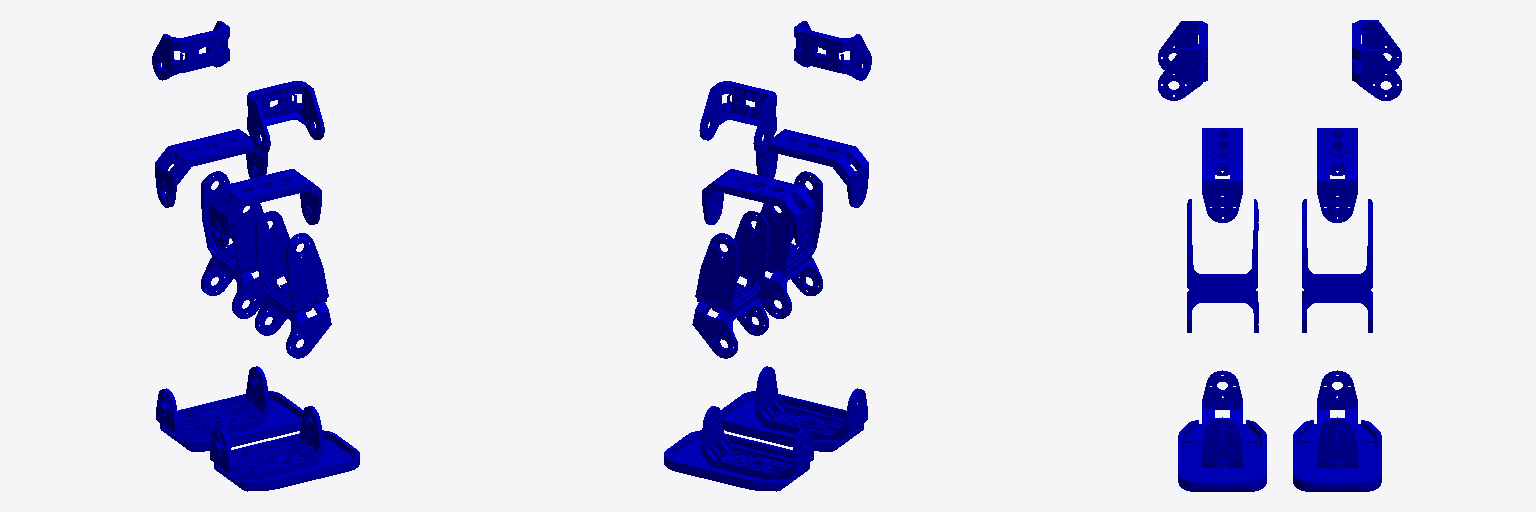
The robot description file, URDF, robot "loadscanner":
<?xml version="1.0"?>
<robot name="loadscanner">
  <material name="blue">
    <color rgba="0 0 0.8 1"/>
  </material>
  <material name="black">
    <color rgba="0 0 0 1"/>
  </material>
  <material name="white">
    <color rgba="1 1 1 1"/>
  </material>
  <material name="orange">
    <color rgba="1 0.4235 0.03921 1"/>
  </material>

  <link name="base_link">
    <origin xyz="0.0 0.0 0.0" rpy="0.0 0.0 0.0" />
  </link>

  <link name="base_footprint">
    <visual>
      <origin xyz="0.0 0.0 0.0" rpy="0.0 0.0 0.0" />
      <geometry>
        <!-- <box size="0.1 0.05 0.15" /> -->
        <mesh filename="package://bioloid_c_description/meshes/base.dae"/>
      </geometry>
      <material name="blue"/>
    </visual>
  </link>

  <joint name="base_link_to_footprint_joint" type="fixed">
    <parent link="base_link"/>
    <child link="base_footprint"/>
    <origin xyz="0.0 0.0 0.0" rpy="0.0 0.0 0.0"/>
  </joint>

  <!-- LEFT ARM -->

  <link name="left_shoulder_link">
    <visual>
      <origin xyz="0.0 0.0 0.0" rpy="0.0 0.0 0.0" />
      <geometry>
        <mesh filename="package://bioloid_c_description/meshes/shoulder.dae"/>
      </geometry>
      <material name="blue"/>
    </visual>
  </link>

  <joint name="left_shoulder_joint" type="revolute">
    <axis xyz="0 1 0"/>
    <limit effort="1000.0" lower="-3.14" upper="3.14" velocity="0.5"/>
    <parent link="base_footprint"/>
    <child link="left_shoulder_link"/>
    <origin xyz="0.0 0.049 0.0" rpy="0.0 0.0 0.0"/>
  </joint>

  <link name="left_arm_link">
    <visual>
      <origin xyz="0.0 0.0 0.0" rpy="0.0 0.0 0.0" />
      <geometry>
        <mesh filename="package://bioloid_c_description/meshes/arm.dae"/>
      </geometry>
      <material name="blue"/>
    </visual>
  </link>

  <joint name="left_arm_joint" type="revolute">
    <axis xyz="1 0 0"/>
    <limit effort="1000.0" lower="-3.14" upper="3.14" velocity="0.5"/>
    <parent link="left_shoulder_link"/>
    <child link="left_arm_link"/>
    <origin xyz="0.0 0.023 -0.0145" rpy="0.0 0.0 0.0"/>
  </joint>

  <link name="left_forearm_link">
    <visual>
      <origin xyz="0.0 0.0 0.0" rpy="0.0 0.0 0.0" />
      <geometry>
        <mesh filename="package://bioloid_c_description/meshes/left_forearm.dae"/>
      </geometry>
      <material name="blue"/>
    </visual>
  </link>

  <joint name="left_forearm_joint" type="revolute">
    <axis xyz="1 0 0"/>
    <limit effort="1000.0" lower="-3.14" upper="3.14" velocity="0.5"/>
    <parent link="left_arm_link"/>
    <child link="left_forearm_link"/>
    <origin xyz="0.0 0.0 -0.0675" rpy="0.0 0.0 0.0"/>
  </joint>

  <!-- RIGHT ARM -->
  <!-- Shoulder: visual Rotate 180 deg -->
  <link name="right_shoulder_link">
    <visual>
      <origin xyz="0.0 0.0 0.0" rpy="0.0 0.0 3.14" />
      <geometry>
        <mesh filename="package://bioloid_c_description/meshes/shoulder.dae"/>
      </geometry>
      <material name="blue"/>
    </visual>
  </link>

  <joint name="right_shoulder_joint" type="revolute">
    <axis xyz="0 1 0"/>
    <limit effort="1000.0" lower="-3.14" upper="3.14" velocity="0.5"/>
    <parent link="base_footprint"/>
    <child link="right_shoulder_link"/>
    <origin xyz="0.0 -0.049 0.0" rpy="0.0 0.0 0.0"/>
  </joint>

  <link name="right_arm_link">
    <visual>
      <origin xyz="0.0 0.0 0.0" rpy="0.0 0.0 0.0" />
      <geometry>
        <mesh filename="package://bioloid_c_description/meshes/arm.dae"/>
      </geometry>
      <material name="blue"/>
    </visual>
  </link>

  <joint name="right_arm_joint" type="revolute">
    <axis xyz="1 0 0"/>
    <limit effort="1000.0" lower="-3.14" upper="3.14" velocity="0.5"/>
    <parent link="right_shoulder_link"/>
    <child link="right_arm_link"/>
    <origin xyz="0.0 -0.023 -0.0145" rpy="0.0 0.0 0.0"/>
  </joint>

  <link name="right_forearm_link">
    <visual>
      <origin xyz="0.0 0.0 0.0" rpy="0.0 0.0 0.0" />
      <geometry>
        <mesh filename="package://bioloid_c_description/meshes/right_forearm.dae"/>
      </geometry>
      <material name="blue"/>
    </visual>
  </link>

  <joint name="right_forearm_joint" type="revolute">
    <axis xyz="1 0 0"/>
    <limit effort="1000.0" lower="-3.14" upper="3.14" velocity="0.5"/>
    <parent link="right_arm_link"/>
    <child link="right_forearm_link"/>
    <origin xyz="0.0 -0.0 -0.0675" rpy="0.0 0.0 0.0"/>
  </joint>


  <!-- LEG -->
  <!-- LEFT LEG -->

  <link name="left_hip_link">
    <visual>
      <origin xyz="0.0 0.0 0.0" rpy="0.0 0.0 0.0" />
      <geometry>
        <mesh filename="package://bioloid_c_description/meshes/hip.dae"/>
      </geometry>
      <material name="blue"/>
    </visual>
  </link>

  <joint name="left_hip_joint" type="revolute">
    <axis xyz="1 0 0"/>
    <limit effort="1000.0" lower="-3.14" upper="3.14" velocity="0.5"/>
    <parent link="base_footprint"/>
    <child link="left_hip_link"/>
    <origin xyz="0.0 0.039 -0.07" rpy="0.0 0.0 0.0"/>
  </joint>

  <link name="left_thigh_link">
    <visual>
      <origin xyz="0.0 0.0 0.0" rpy="0.0 0.0 0.0" />
      <geometry>
        <mesh filename="package://bioloid_c_description/meshes/thigh.dae"/>
      </geometry>
      <material name="blue"/>
    </visual>
  </link>

  <joint name="left_thigh_joint" type="revolute">
    <axis xyz="0 1 0"/>
    <limit effort="1000.0" lower="-3.14" upper="3.14" velocity="0.5"/>
    <parent link="left_hip_link"/>
    <child link="left_thigh_link"/>
    <origin xyz="0.016 0.0 -0.045" rpy="0.0 0.0 0.0"/>
  </joint>

  <link name="left_knee_link">
    <visual>
      <origin xyz="0.0 0.0 0.0" rpy="0.0 0.0 0.0" />
      <geometry>
        <mesh filename="package://bioloid_c_description/meshes/left-knee.dae"/>
      </geometry>
      <material name="blue"/>
    </visual>
  </link>

  <joint name="left_knee_joint" type="revolute">
    <axis xyz="0 1 0"/>
    <limit effort="1000.0" lower="-3.14" upper="3.14" velocity="0.5"/>
    <parent link="left_thigh_link"/>
    <child link="left_knee_link"/>
    <origin xyz="0.0 0.0 -0.076" rpy="0.0 0.0 0.0"/>
  </joint>

  <link name="left_ankle_link">
    <visual>
      <origin xyz="0.0 0.0 0.0" rpy="0.0 0.0 0.0" />
      <geometry>
        <mesh filename="package://bioloid_c_description/meshes/ankle.dae"/>
      </geometry>
      <material name="blue"/>
    </visual>
  </link>

  <joint name="left_ankle_joint" type="revolute">
    <axis xyz="0 1 0"/>
    <limit effort="1000.0" lower="-3.14" upper="3.14" velocity="0.5"/>
    <parent link="left_knee_link"/>
    <child link="left_ankle_link"/>
    <origin xyz="0.0 0.00 -0.0765" rpy="0.0 0.0 0.0"/>
  </joint>

  <link name="left_foot_link">
    <visual>
      <origin xyz="0.0 0.0 0.0" rpy="0.0 0.0 0.0" />
      <geometry>
        <mesh filename="package://bioloid_c_description/meshes/foot.dae"/>
      </geometry>
      <material name="blue"/>
    </visual>
  </link>

  <joint name="left_foot_joint" type="revolute">
    <axis xyz="1 0 0"/>
    <limit effort="1000.0" lower="-3.14" upper="3.14" velocity="0.5"/>
    <parent link="left_ankle_link"/>
    <child link="left_foot_link"/>
    <origin xyz="-0.015 0.00 0.0" rpy="0.0 0.0 0.0"/>
  </joint>


  <!-- RIGH LEG -->

  <link name="right_hip_link">
    <visual>
      <origin xyz="0.0 0.0 0.0" rpy="0.0 0.0 0.0" />
      <geometry>
        <mesh filename="package://bioloid_c_description/meshes/hip.dae"/>
      </geometry>
      <material name="blue"/>
    </visual>
  </link>

  <joint name="right_hip_joint" type="revolute">
    <axis xyz="1 0 0"/>
    <limit effort="1000.0" lower="-3.14" upper="3.14" velocity="0.5"/>
    <parent link="base_footprint"/>
    <child link="right_hip_link"/>
    <origin xyz="0.0 -0.039 -0.07" rpy="0.0 0.0 0.0"/>
  </joint>

  <link name="right_thigh_link">
    <visual>
      <origin xyz="0.0 0.0 0.0" rpy="0.0 0.0 0.0" />
      <geometry>
        <mesh filename="package://bioloid_c_description/meshes/thigh.dae"/>
      </geometry>
      <material name="blue"/>
    </visual>
  </link>

  <joint name="right_thigh_joint" type="revolute">
    <axis xyz="0 1 0"/>
    <limit effort="1000.0" lower="-3.14" upper="3.14" velocity="0.5"/>
    <parent link="right_hip_link"/>
    <child link="right_thigh_link"/>
    <origin xyz="0.016 0.0 -0.045" rpy="0.0 0.0 0.0"/>
  </joint>

  <link name="right_knee_link">
    <visual>
      <origin xyz="0.0 0.0 0.0" rpy="0.0 0.0 0.0" />
      <geometry>
        <mesh filename="package://bioloid_c_description/meshes/right-knee.dae"/>
      </geometry>
      <material name="blue"/>
    </visual>
  </link>

  <joint name="right_knee_joint" type="revolute">
    <axis xyz="0 1 0"/>
    <limit effort="1000.0" lower="-3.14" upper="3.14" velocity="0.5"/>
    <parent link="right_thigh_link"/>
    <child link="right_knee_link"/>
    <origin xyz="0.0 0.0 -0.076" rpy="0.0 0.0 0.0"/>
  </joint>

  <link name="right_ankle_link">
    <visual>
      <origin xyz="0.0 0.0 0.0" rpy="0.0 0.0 0.0" />
      <geometry>
        <mesh filename="package://bioloid_c_description/meshes/ankle.dae"/>
      </geometry>
      <material name="blue"/>
    </visual>
  </link>

  <joint name="right_ankle_joint" type="revolute">
    <axis xyz="0 1 0"/>
    <limit effort="1000.0" lower="-3.14" upper="3.14" velocity="0.5"/>
    <parent link="right_knee_link"/>
    <child link="right_ankle_link"/>
    <origin xyz="0.0 0.00 -0.0765" rpy="0.0 0.0 0.0"/>
  </joint>

  <link name="right_foot_link">
    <visual>
      <origin xyz="0.0 0.0 0.0" rpy="0.0 0.0 0.0" />
      <geometry>
        <mesh filename="package://bioloid_c_description/meshes/foot.dae"/>
      </geometry>
      <material name="blue"/>
    </visual>
  </link>

  <joint name="right_foot_joint" type="revolute">
    <axis xyz="1 0 0"/>
    <limit effort="1000.0" lower="-3.14" upper="3.14" velocity="0.5"/>
    <parent link="right_ankle_link"/>
    <child link="right_foot_link"/>
    <origin xyz="-0.015 0.00 0.0" rpy="0.0 0.0 0.0"/>
  </joint>
  
</robot>

--- Facts derived from the render (not from the file) ---
3 views of the same robot in one strip: view 1: azimuth 30°, elevation 25°; view 2: azimuth 150°, elevation 25°; view 3: azimuth 270°, elevation 25° (orthographic).
Robot: loadscanner — 18 links, 17 joints (16 revolute, 1 fixed); root link base_link; default pose: all joints at 0.
Visible links, largest first — view 1: right_thigh_link, right_foot_link, left_foot_link, left_thigh_link, right_hip_link, left_hip_link, right_shoulder_link, left_shoulder_link; view 2: left_thigh_link, left_foot_link, right_foot_link, right_thigh_link, left_hip_link, right_hip_link, left_shoulder_link, right_shoulder_link; view 3: right_foot_link, left_foot_link, left_hip_link, right_hip_link, left_thigh_link, right_thigh_link, left_shoulder_link, right_shoulder_link.
Boxes of the visible links, x1=… form: right_thigh_link: x1=255, y1=211, x2=331, y2=358; right_foot_link: x1=210, y1=406, x2=359, y2=491; left_foot_link: x1=156, y1=366, x2=302, y2=451; left_thigh_link: x1=201, y1=171, x2=276, y2=318; right_hip_link: x1=209, y1=169, x2=321, y2=246; left_hip_link: x1=155, y1=129, x2=267, y2=207; right_shoulder_link: x1=247, y1=81, x2=324, y2=153; left_shoulder_link: x1=152, y1=21, x2=229, y2=80; left_thigh_link: x1=692, y1=211, x2=768, y2=358; left_foot_link: x1=664, y1=406, x2=813, y2=491; right_foot_link: x1=721, y1=366, x2=867, y2=451; right_thigh_link: x1=747, y1=171, x2=822, y2=318; left_hip_link: x1=702, y1=169, x2=814, y2=246; right_hip_link: x1=756, y1=129, x2=868, y2=207; left_shoulder_link: x1=699, y1=81, x2=776, y2=153; right_shoulder_link: x1=794, y1=21, x2=871, y2=80; right_foot_link: x1=1178, y1=370, x2=1266, y2=491; left_foot_link: x1=1293, y1=370, x2=1381, y2=491; left_hip_link: x1=1317, y1=128, x2=1357, y2=222; right_hip_link: x1=1202, y1=128, x2=1242, y2=222; left_thigh_link: x1=1302, y1=199, x2=1372, y2=332; right_thigh_link: x1=1187, y1=199, x2=1258, y2=332; left_shoulder_link: x1=1352, y1=20, x2=1401, y2=100; right_shoulder_link: x1=1158, y1=21, x2=1207, y2=100.
Size in the robot's own frame: 0.1082 by 0.166 by 0.3121 metres.
8 mesh visuals loaded from 11 distinct referenced files (4 Collada DAE); not drawn: 9 (reference not matched to a file when rendering).